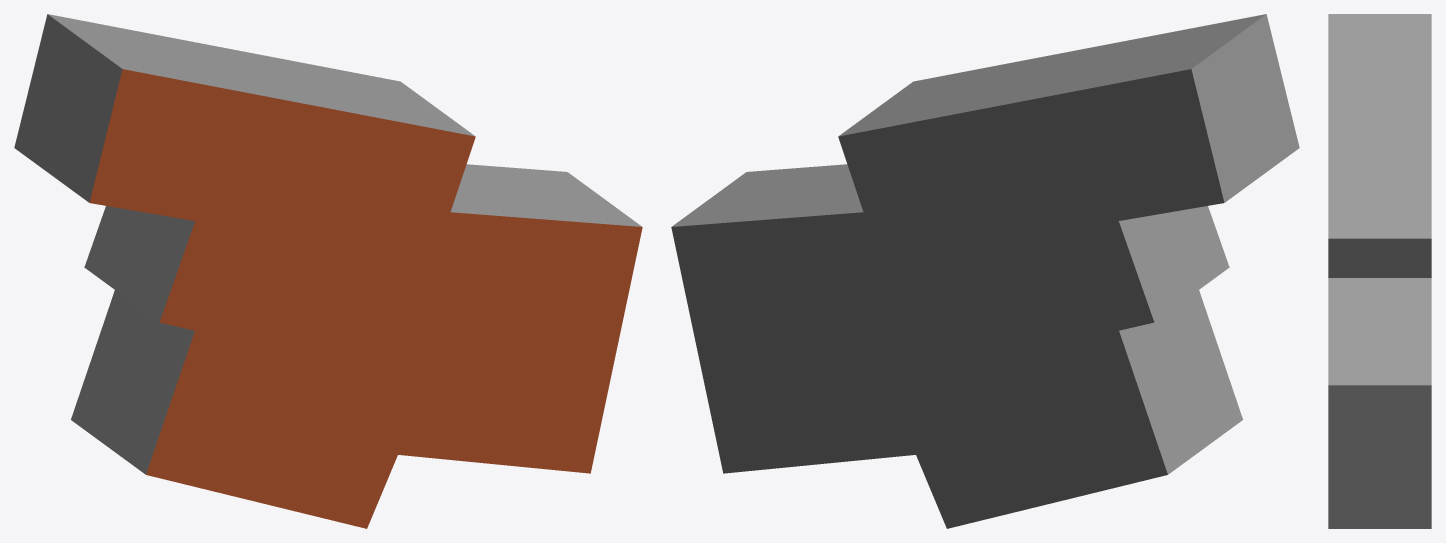
Rendered from construction_5898_assumed_A_Casa_h6m.obj.
3 renders of one model, left to right at view 1: azimuth 30°, elevation 25°; view 2: azimuth 150°, elevation 25°; view 3: azimuth 270°, elevation 25°, orthographic. The views are drawn at different scales.
Visible parts, largest first — view 1: construction_5898_assumed_A_Casa; view 2: construction_5898_assumed_A_Casa; view 3: construction_5898_assumed_A_Casa.
Part boxes in pixels (bbox=[...]): construction_5898_assumed_A_Casa: bbox=[14, 14, 642, 528]; construction_5898_assumed_A_Casa: bbox=[671, 14, 1299, 528]; construction_5898_assumed_A_Casa: bbox=[1328, 14, 1431, 528].
Size of the model in its own units: 25.48 by 22.87 by 6.
